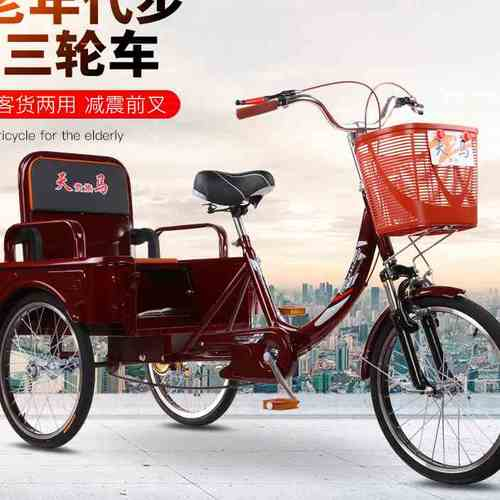empty: (1, 98, 500, 486)
